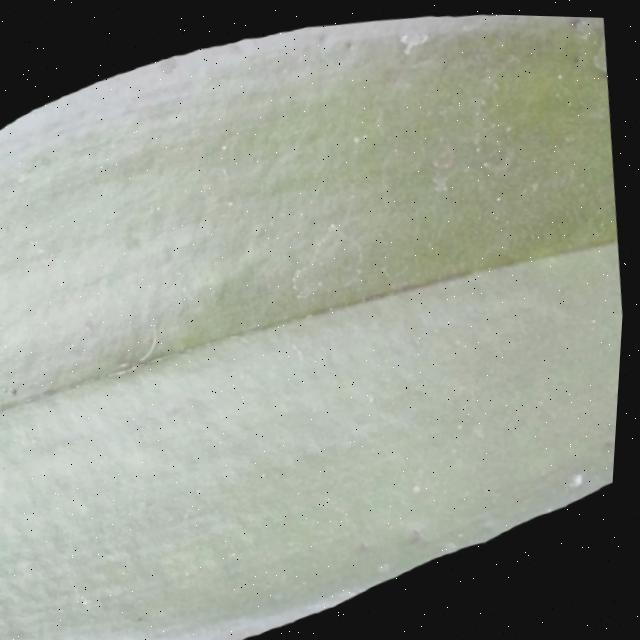mite: (408, 13, 618, 226), (418, 106, 528, 213), (561, 13, 608, 81), (589, 28, 608, 73), (488, 184, 513, 207), (571, 467, 591, 486), (565, 47, 584, 65), (566, 13, 585, 26), (502, 119, 517, 135), (138, 612, 153, 623), (494, 189, 506, 202), (569, 50, 581, 62), (481, 155, 493, 167)
